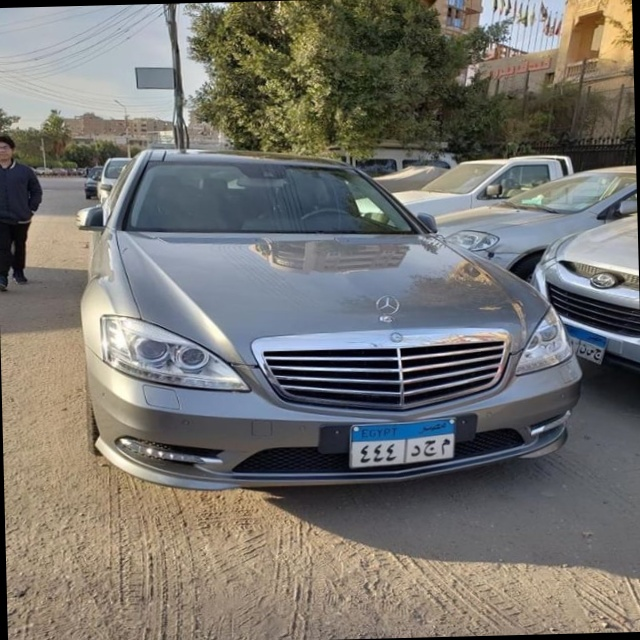License Plate: (347, 416, 460, 471)
